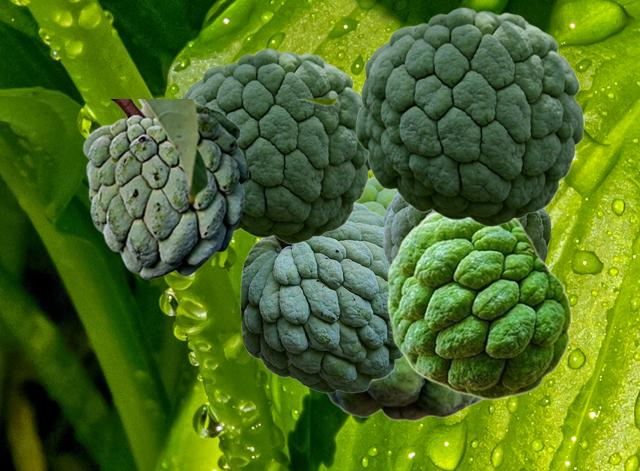atis: (355, 7, 583, 226), (82, 99, 336, 279), (324, 174, 485, 421), (180, 48, 370, 243), (387, 212, 571, 399), (240, 202, 403, 392), (382, 190, 550, 264)
